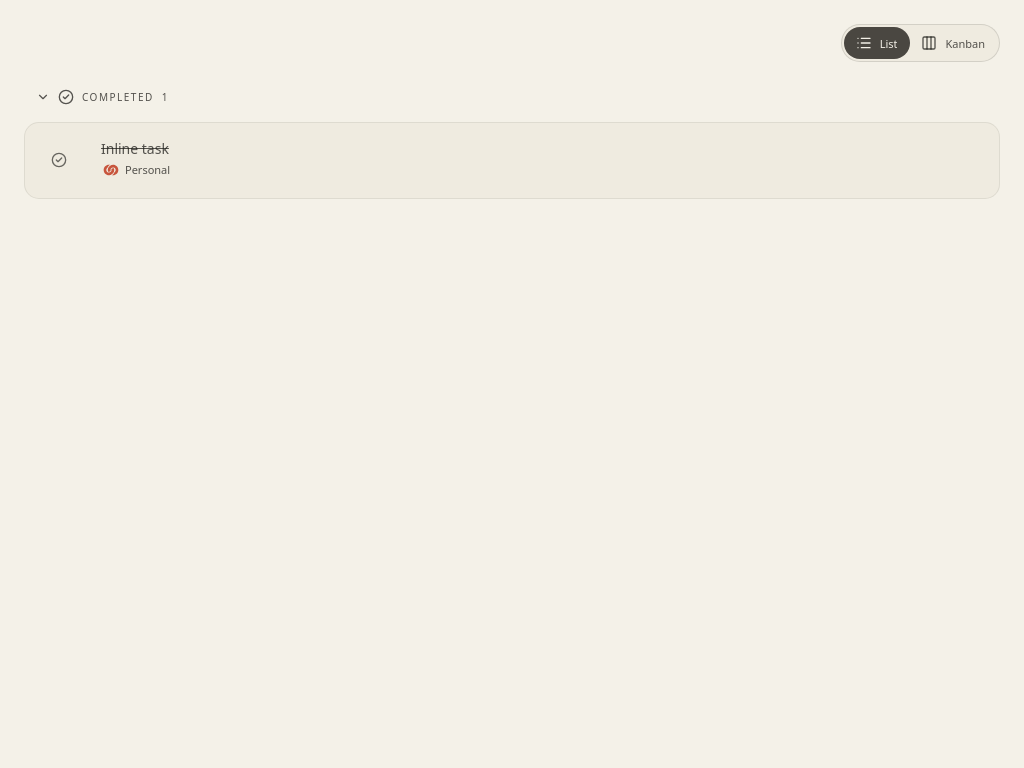
Test: exposes failed inline status writes
Click the dropdown named "Status of Inline task" at coordinates (59, 160), box x1=41 y1=142 x2=77 y2=178
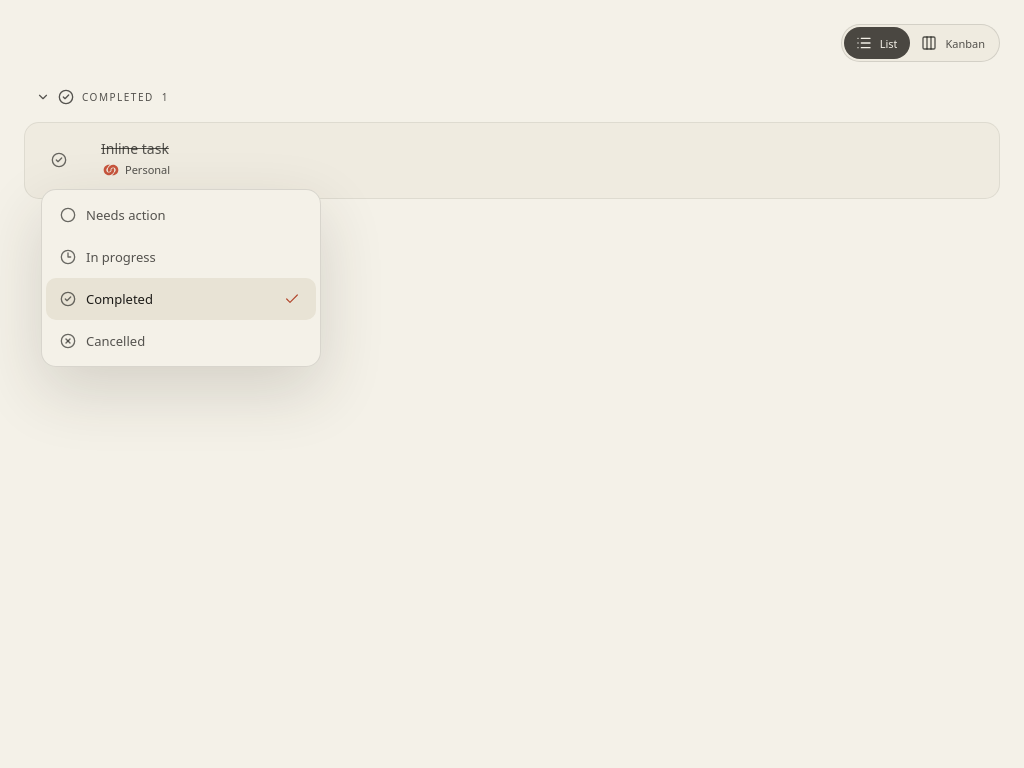
Click the option "In progress" at coordinates (121, 257), box x1=46 y1=236 x2=316 y2=278
(page scrolled)
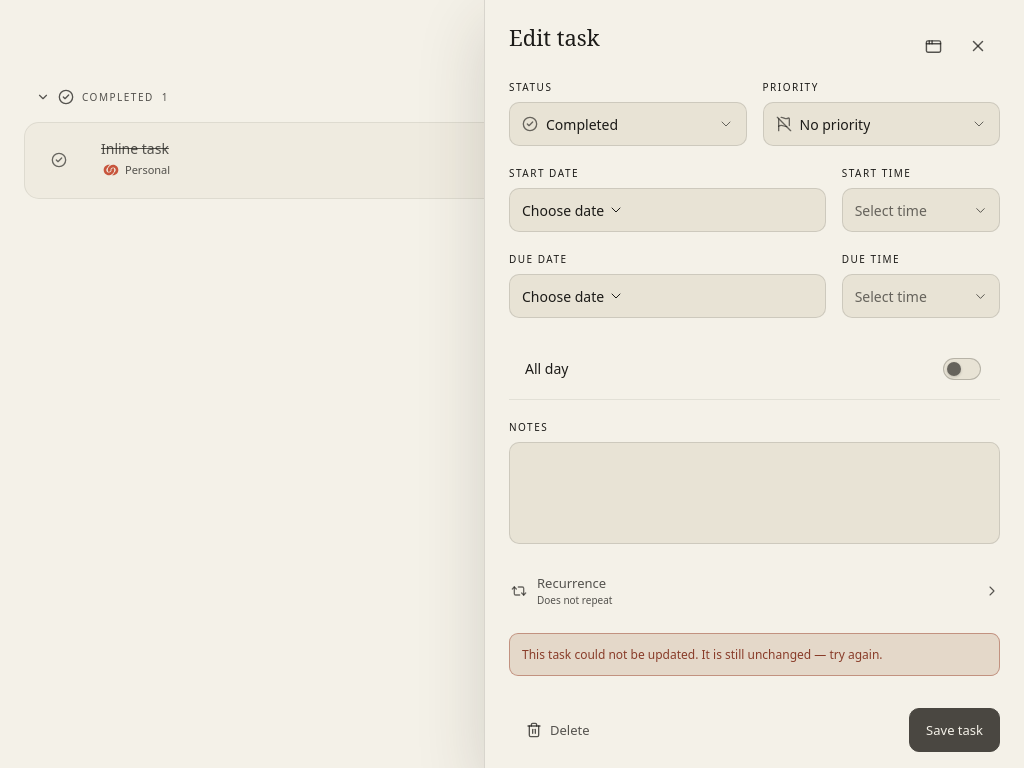
Result: the dialog "Edit task" is shown at x1=484 y1=0 x2=1023 y2=767
Result: the text "This task could not be updated" is shown at x1=522 y1=646 x2=882 y2=663
